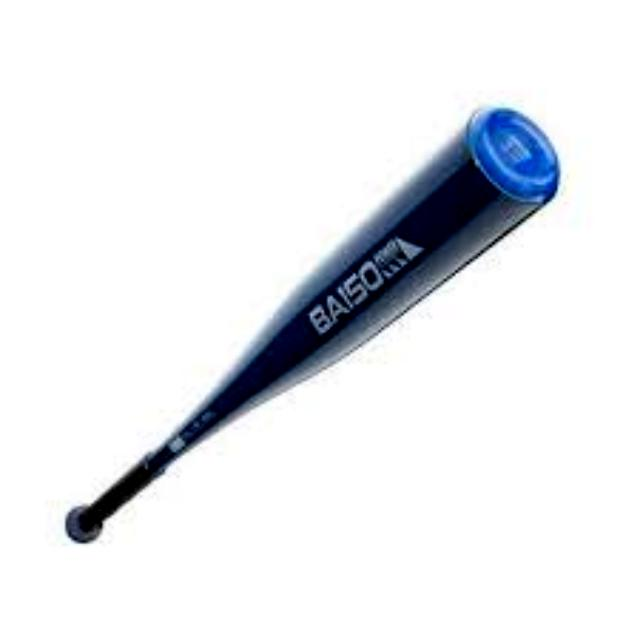baseball bat: (58, 101, 563, 545)
